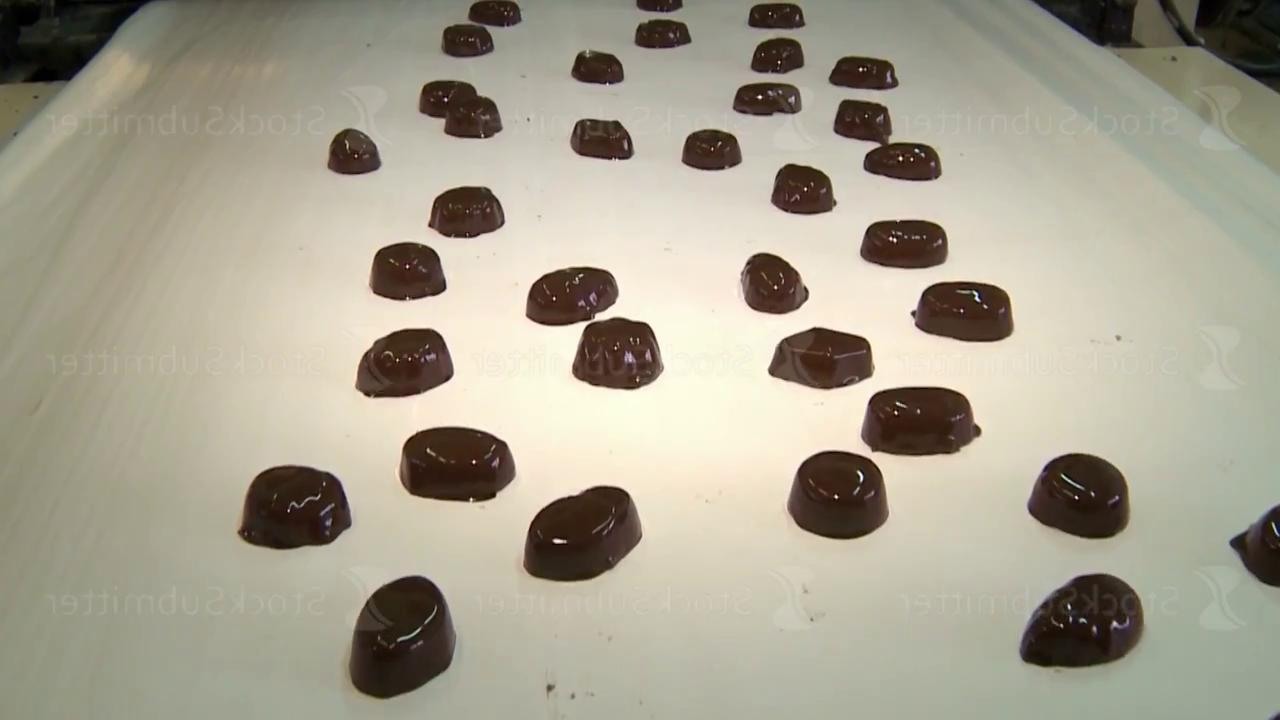chocolate: (349, 574, 456, 698), (1020, 572, 1144, 668), (524, 484, 643, 581), (238, 464, 352, 549), (788, 450, 889, 539), (400, 426, 516, 502), (1028, 452, 1130, 538), (861, 385, 981, 455), (356, 327, 454, 398), (768, 326, 874, 389), (573, 316, 664, 389), (912, 280, 1014, 342), (526, 266, 619, 325), (370, 241, 446, 300), (861, 219, 948, 268), (1230, 503, 1280, 586), (741, 252, 809, 313), (429, 185, 505, 238), (772, 163, 836, 214), (865, 141, 942, 180), (571, 118, 634, 160), (682, 128, 742, 170), (834, 99, 892, 142), (445, 95, 502, 138), (328, 128, 381, 174), (829, 56, 898, 89), (734, 82, 801, 115), (420, 79, 476, 117), (751, 37, 804, 73), (572, 49, 624, 84), (442, 23, 494, 57), (635, 19, 691, 48), (748, 3, 806, 29), (469, 0, 522, 27)
